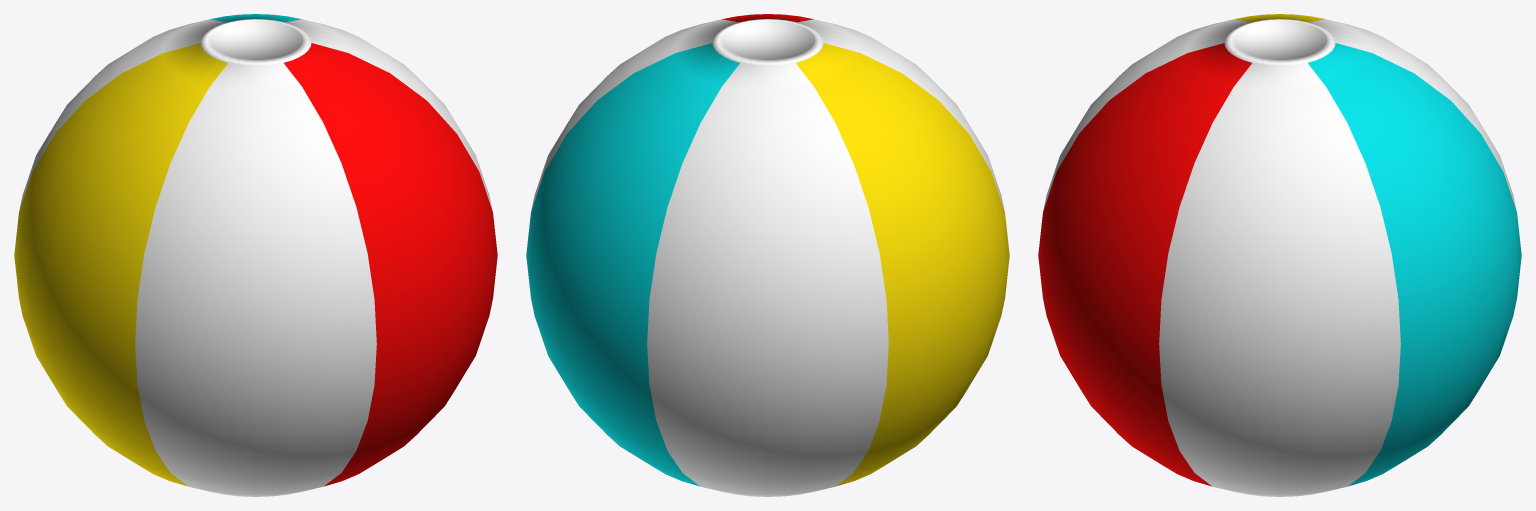
Rendered from Ball_Beach1.fbx.
The picture shows the model from 3 angles, left to right: view 1: azimuth 30°, elevation 25°; view 2: azimuth 150°, elevation 25°; view 3: azimuth 270°, elevation 25°; orthographic projection.
Parts seen in each view (by area): view 1: Beach1; view 2: Beach1; view 3: Beach1.
Part boxes in pixels (x1,y1,x2,y2): Beach1: [14, 14, 497, 496]; Beach1: [526, 14, 1009, 496]; Beach1: [1038, 14, 1521, 496].
Size of the model in its own units: 200 by 197 by 200.
